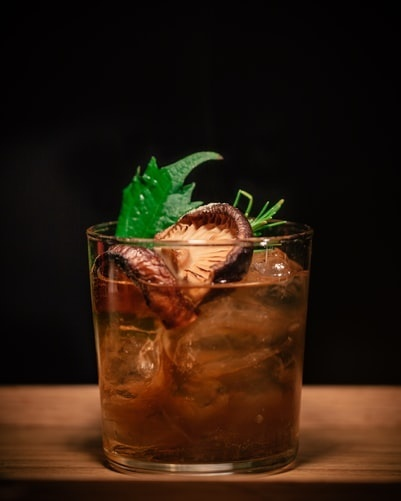whiskey: (77, 219, 311, 464)
